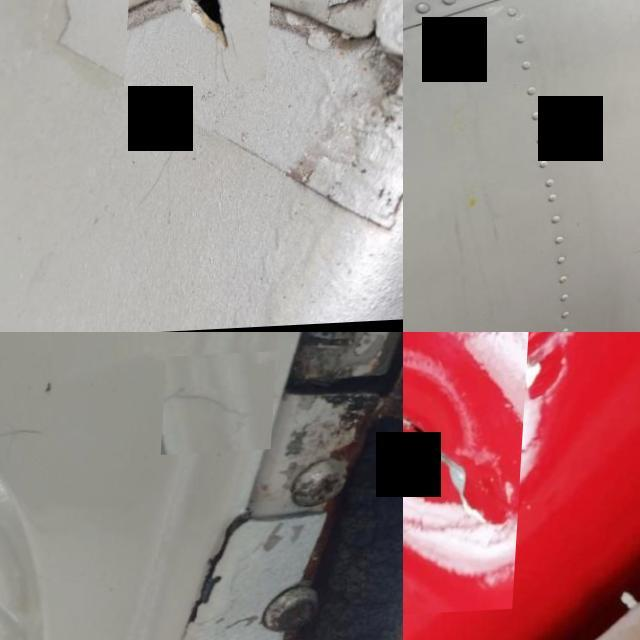Crack: (403, 332, 532, 621), (128, 0, 277, 90), (165, 356, 280, 458), (0, 398, 74, 476)
